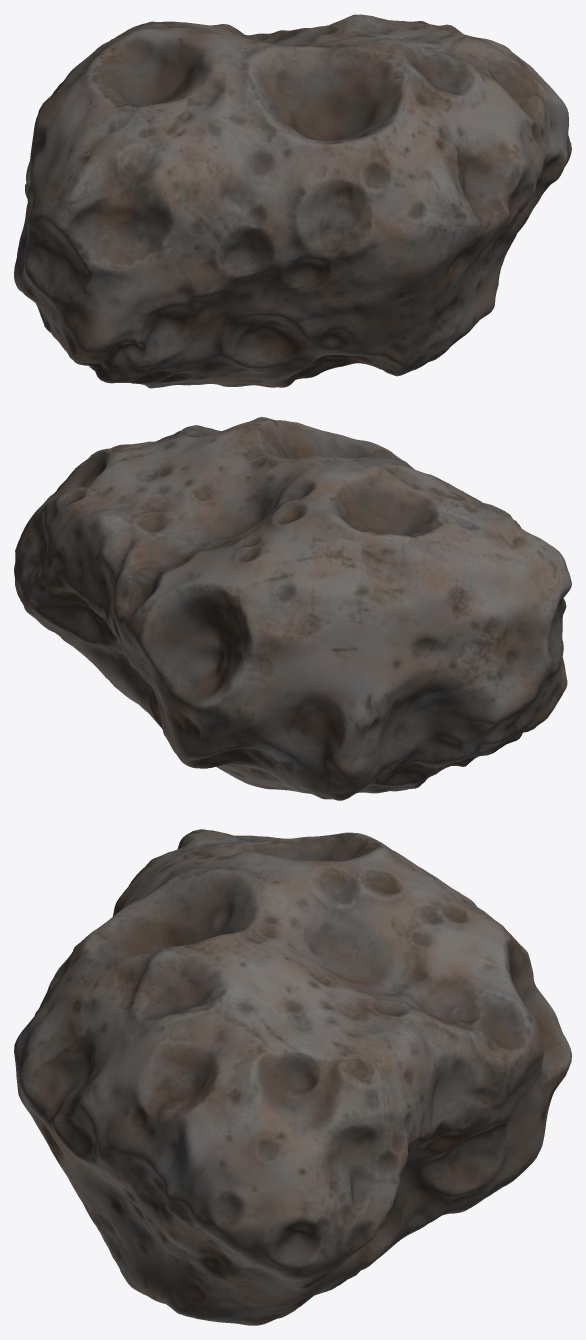
The picture shows the model from 3 angles, top to bottom: view 1: azimuth 30°, elevation 25°; view 2: azimuth 150°, elevation 25°; view 3: azimuth 270°, elevation 25°; orthographic projection. The views are drawn at different scales.
Visible parts, largest first — view 1: Meteorite; view 2: Meteorite; view 3: Meteorite.
Part boxes in pixels (bbox=[...]): Meteorite: bbox=[14, 14, 571, 388]; Meteorite: bbox=[14, 417, 571, 800]; Meteorite: bbox=[14, 829, 571, 1325].
Size of the model in its own units: 7.19 by 4.26 by 5.62.
1 material, 1 textured.
